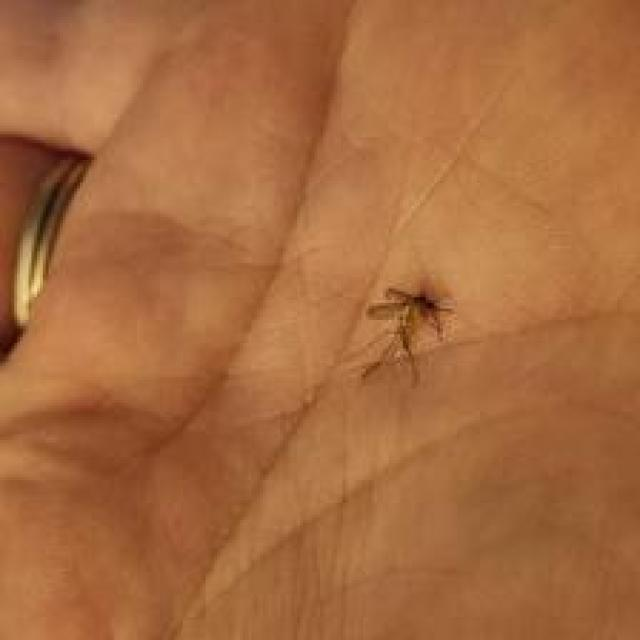Culex: (357, 286, 454, 386)
